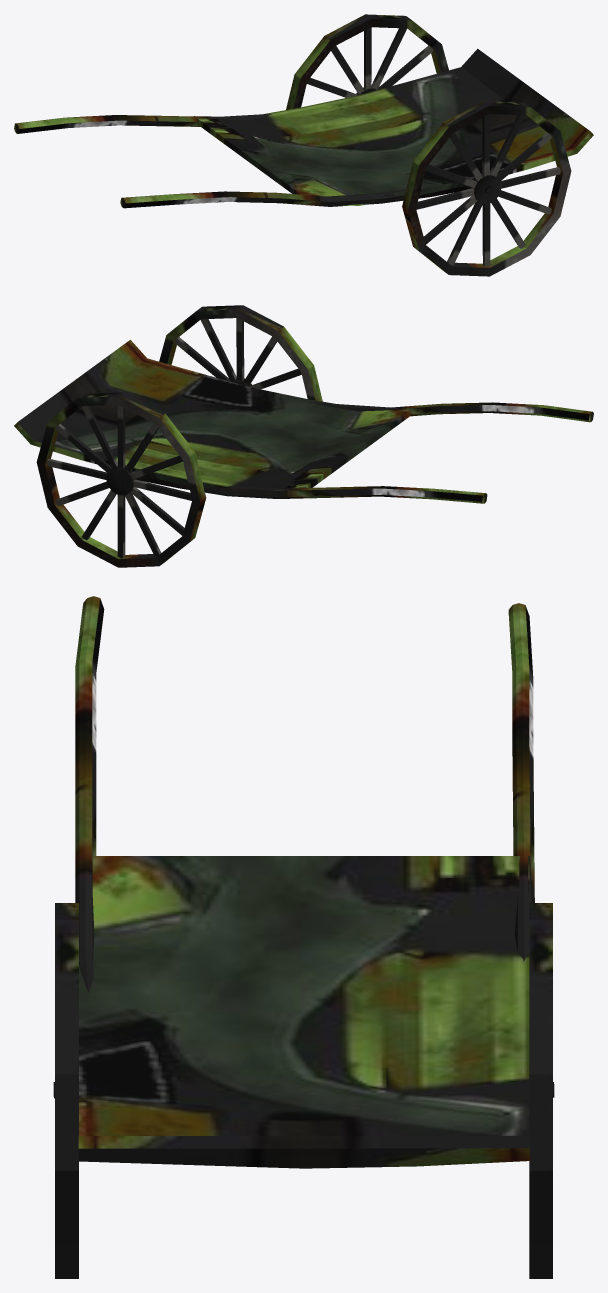
Rendered from kola.glb.
The picture shows the model from 3 angles, top to bottom: view 1: azimuth 30°, elevation 25°; view 2: azimuth 150°, elevation 25°; view 3: azimuth 270°, elevation 25°; orthographic projection. The views are drawn at different scales.
Visible parts, largest first — view 1: Cart_1_aiStandardSurface6_0; view 2: Cart_1_aiStandardSurface6_0; view 3: Cart_1_aiStandardSurface6_0.
Boxes of the visible parts, x1,y1,x2,y2 form: Cart_1_aiStandardSurface6_0: [14, 14, 593, 276]; Cart_1_aiStandardSurface6_0: [14, 305, 593, 567]; Cart_1_aiStandardSurface6_0: [53, 596, 554, 1278].
Size of the model in its own units: 149 by 52.13 by 69.19.
Materials: 1 (1 with a texture image).
